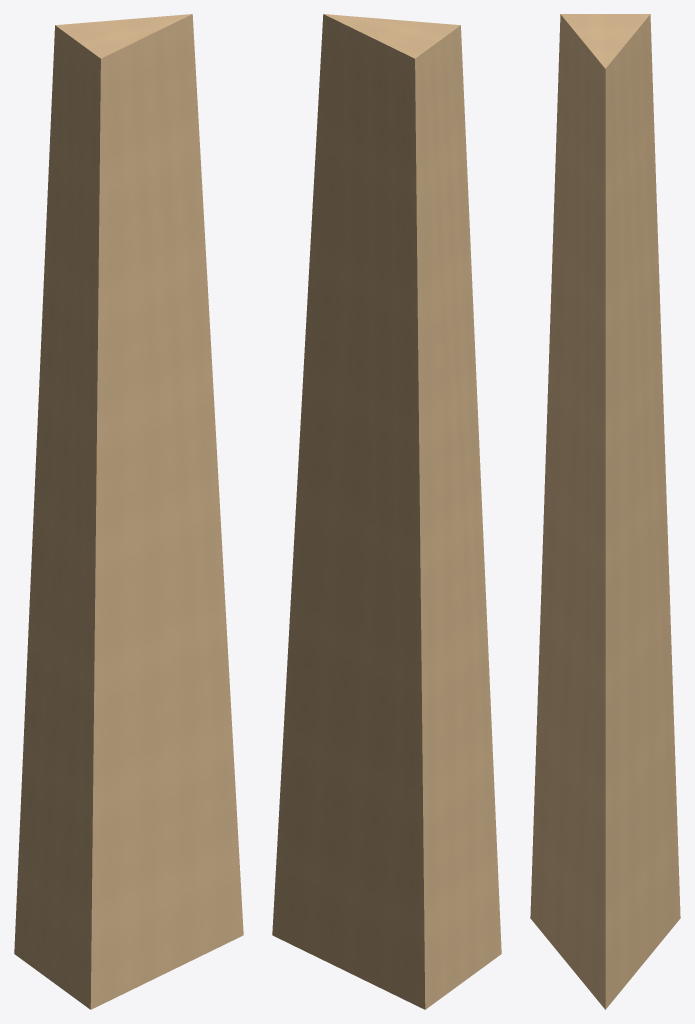
The model's file is atlas100-s095-a05.lod2.glb.
3 renders of one model, left to right at view 1: azimuth 30°, elevation 25°; view 2: azimuth 150°, elevation 25°; view 3: azimuth 270°, elevation 25°, orthographic.
Visible parts, largest first — view 1: atlas100-s095-a05:part-000; view 2: atlas100-s095-a05:part-000; view 3: atlas100-s095-a05:part-000.
Boxes of the visible parts, x1,y1,x2,y2 form: atlas100-s095-a05:part-000: (14,14,243,1009); atlas100-s095-a05:part-000: (272,14,501,1009); atlas100-s095-a05:part-000: (530,14,680,1009).
Bounding box in the file's own units: 0.1638 × 0.7644 × 0.1135.
Materials: 1 (1 with a texture image).
